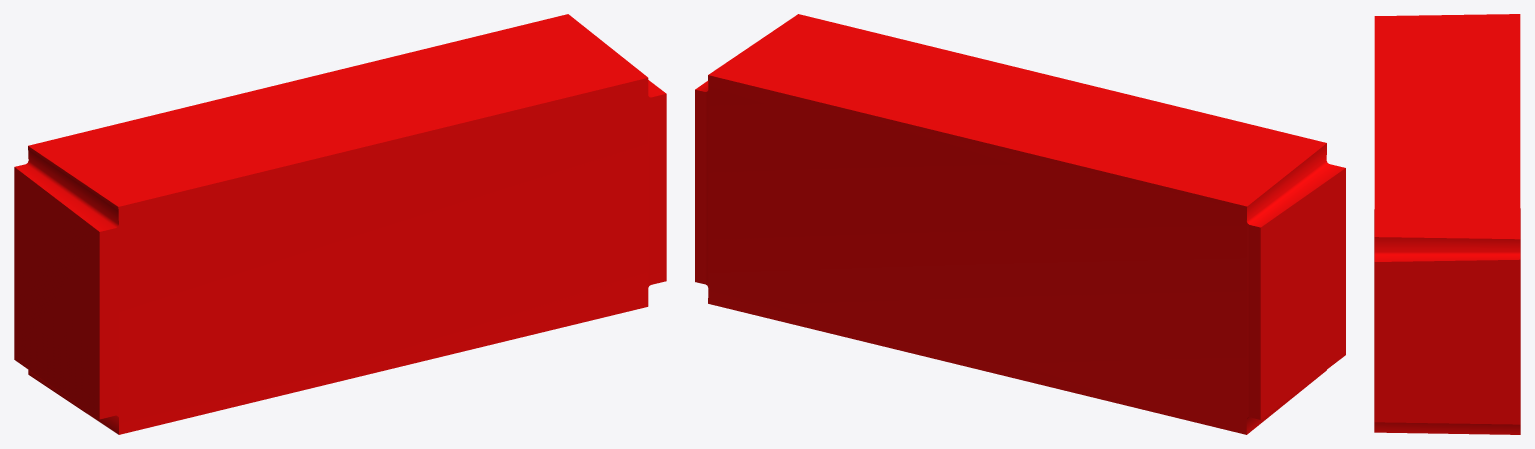
Rendered from MeshPsRobothorDeskNorrasen_1.obj.
3 renders of one model, left to right at view 1: azimuth 30°, elevation 25°; view 2: azimuth 150°, elevation 25°; view 3: azimuth 270°, elevation 25°, orthographic. The views are drawn at different scales.
Visible parts, largest first — view 1: PsRobothorDeskNorrasen; view 2: PsRobothorDeskNorrasen; view 3: PsRobothorDeskNorrasen.
Boxes of the visible parts, x1=… form: PsRobothorDeskNorrasen: x1=14, y1=14, x2=666, y2=434; PsRobothorDeskNorrasen: x1=695, y1=14, x2=1345, y2=434; PsRobothorDeskNorrasen: x1=1374, y1=14, x2=1520, y2=434.
Bounding box in the file's own units: 0.6288 × 0.2429 × 0.1642.
